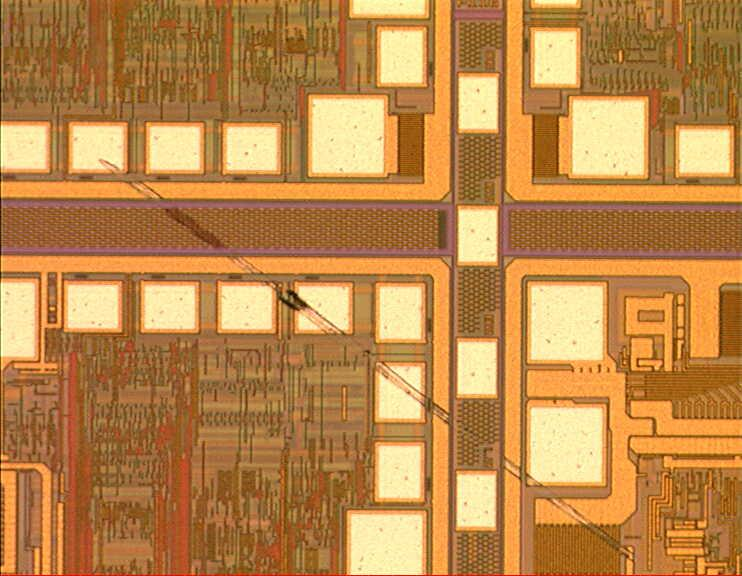SCRATCH: (92, 149, 652, 574)
